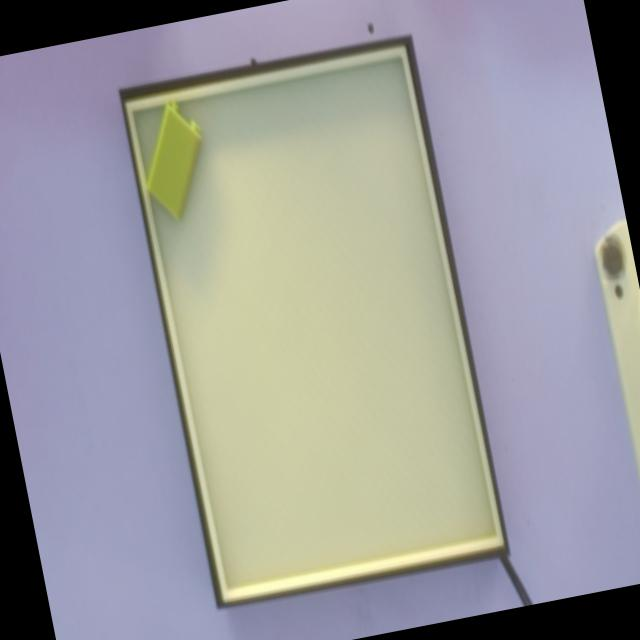bateria: (146, 99, 202, 221)
mesa: (118, 34, 510, 609)
